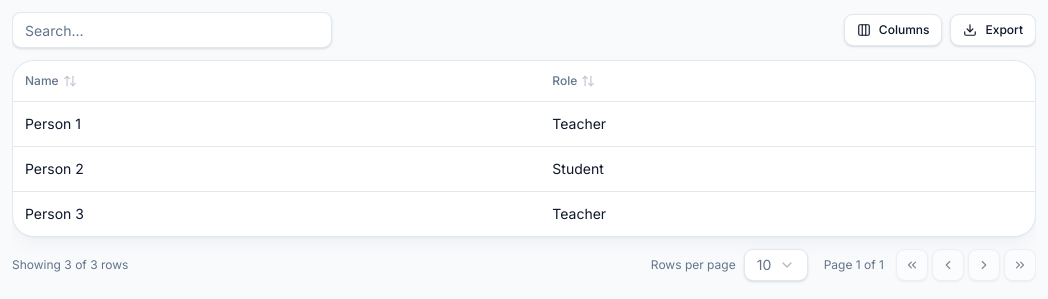
Test: DataTable — global filter search › restores all rows when the search box is cleared
Type "Person 2" into the field with placeholder "Search..." at (172, 30), box [12,12,332,48]
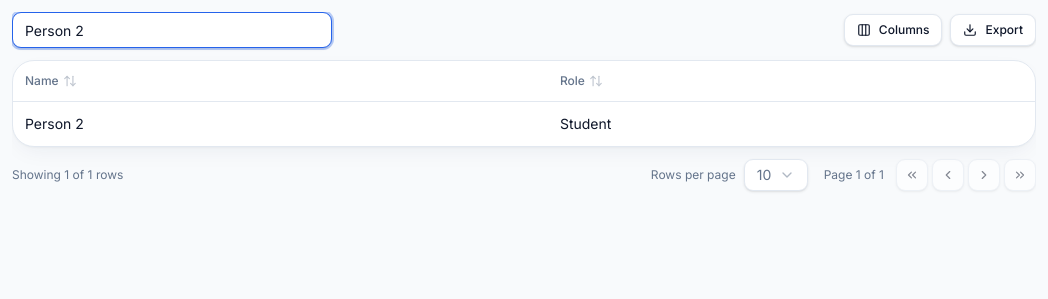
Expected: the text "Person 1" is gone
Clear the field with placeholder "Search..." at (172, 30), box [12,12,332,48]
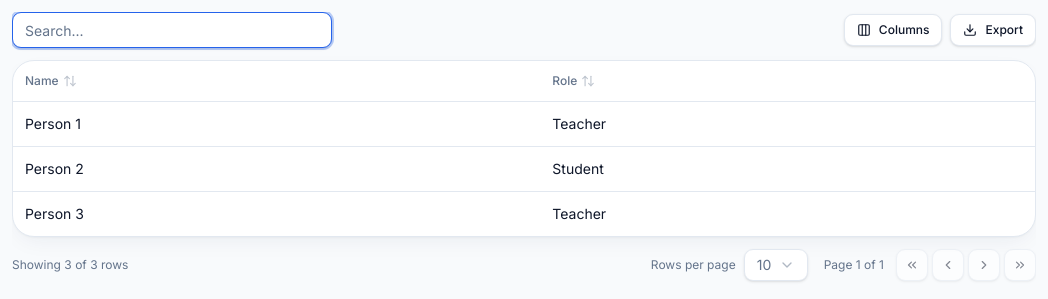
Expected: the text "Person 2" is shown, [13,146,540,191]
Expected: the text "Person 1" is shown, [13,101,540,146]
Expected: the text "Person 3" is shown, [13,191,540,236]
